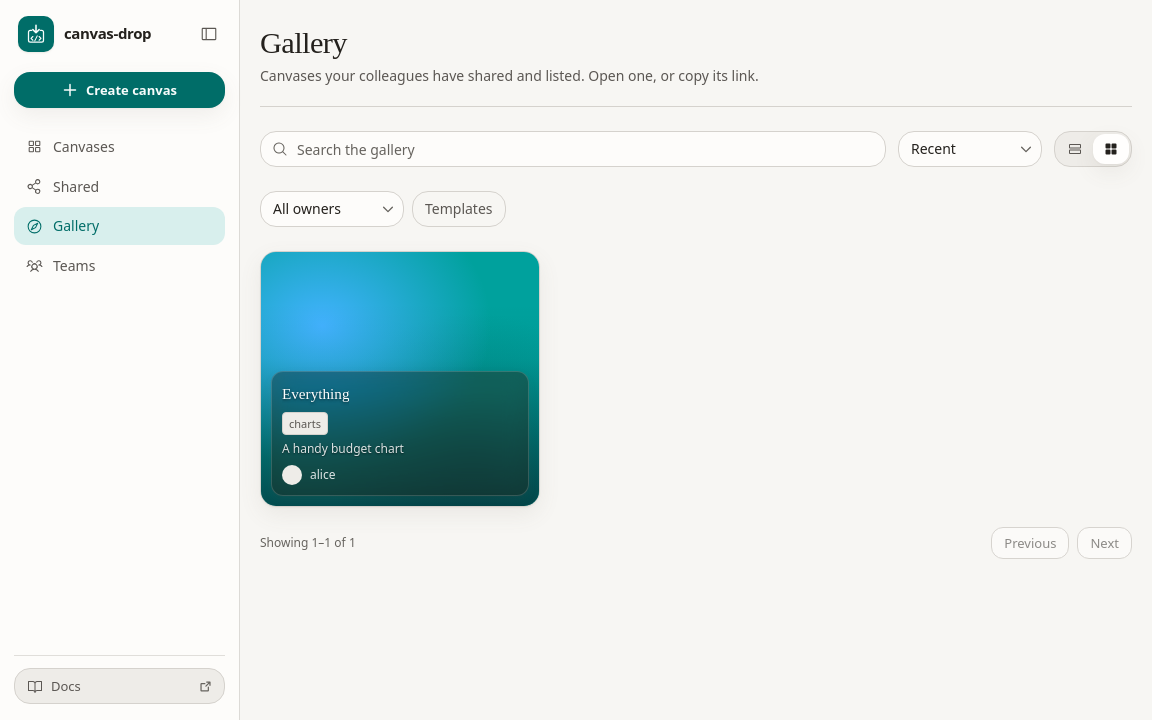
it: Gallery view › debounces typing into `q`, and clearing the field applies immediately
Expected: the link "Everything" is shown, [282,382,350,406]
Type "revenue" into the search field labelled "Search the gallery".
click(573, 149); type("revenue")  # box [260,131,886,167]
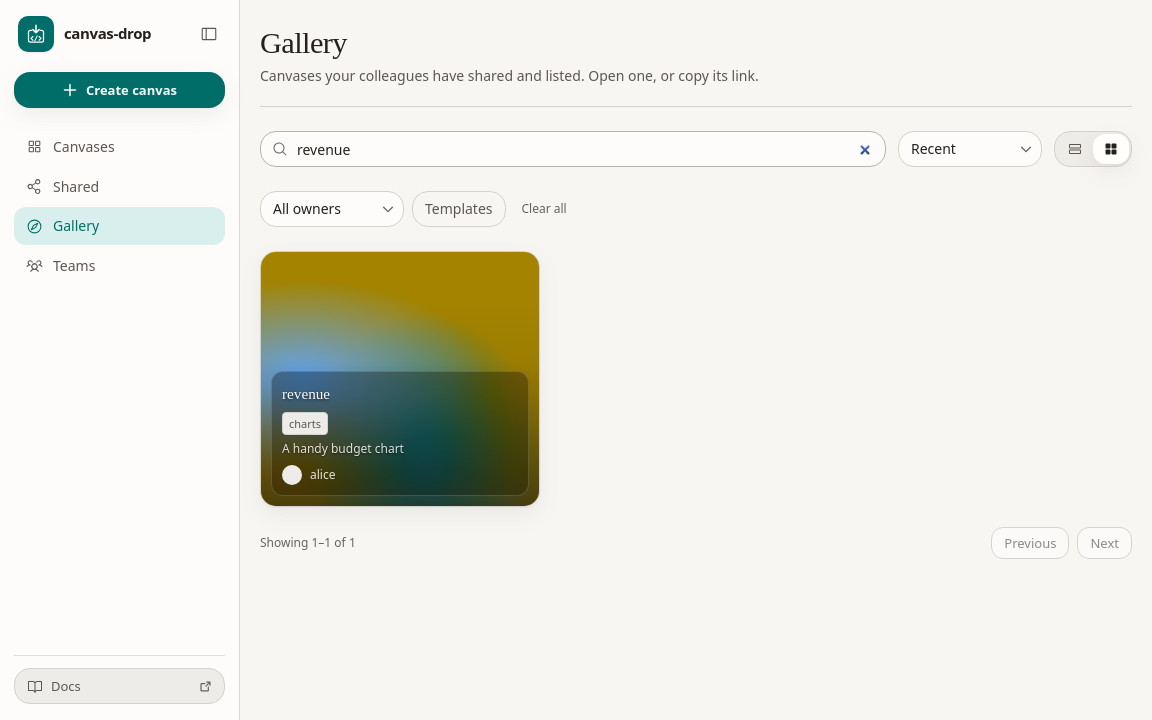
Clear the search field named "Search the gallery" at x=573, y=149, box [260,131,886,167]
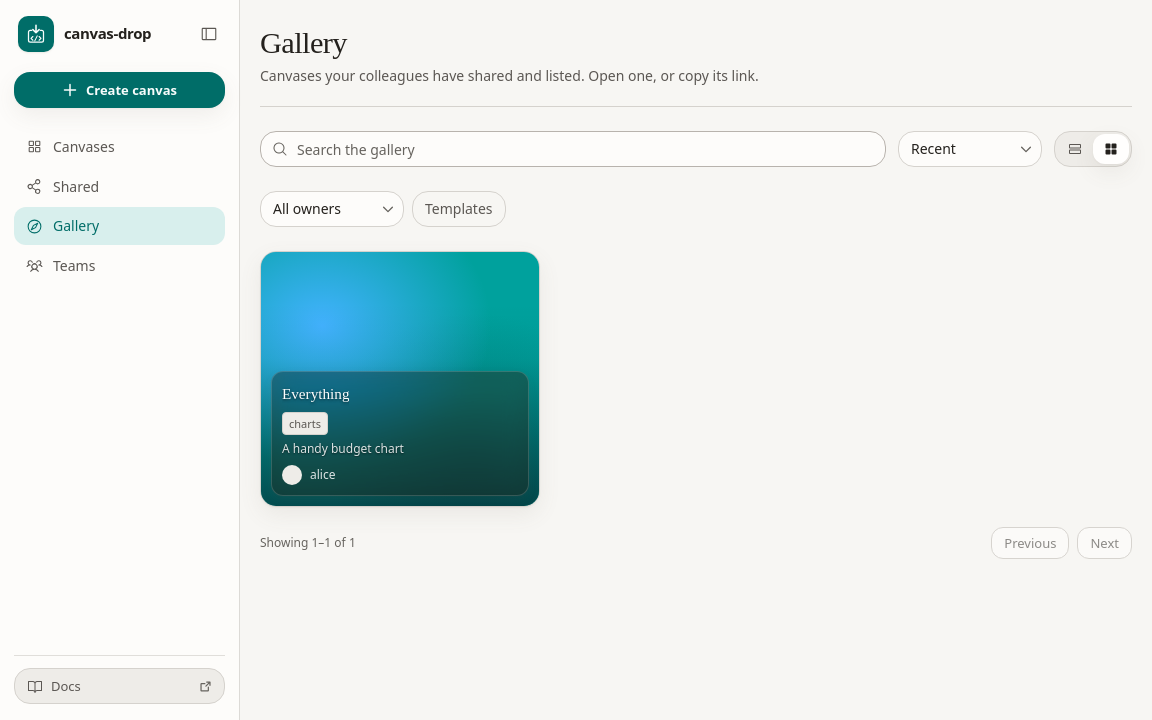
Expected: the link "Everything" is shown, [282,382,350,406]
